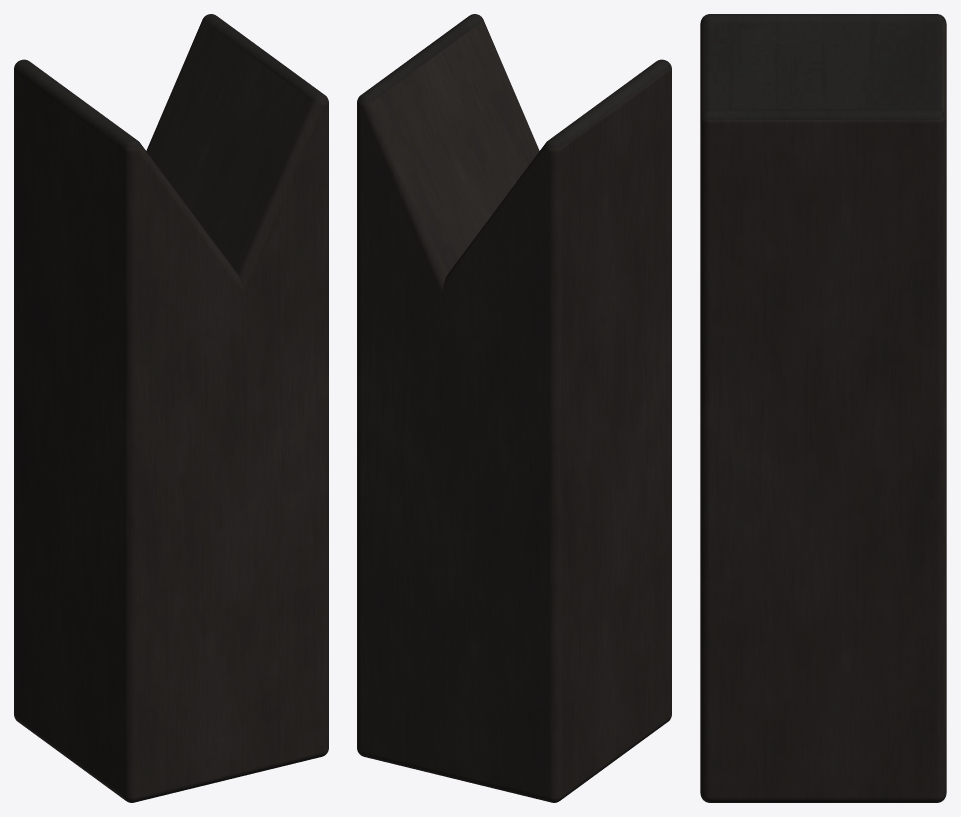
Rendered from queen-black.glb.
3 views of the same model, side by side, from view 1: azimuth 30°, elevation 25°; view 2: azimuth 150°, elevation 25°; view 3: azimuth 270°, elevation 25° (orthographic). The views are drawn at different scales.
Visible parts, largest first — view 1: Rez_Dama_cerny; view 2: Rez_Dama_cerny; view 3: Rez_Dama_cerny.
Part boxes in pixels (left/top/right/bottom): Rez_Dama_cerny: left=14, top=14, right=328, bottom=802; Rez_Dama_cerny: left=357, top=14, right=671, bottom=802; Rez_Dama_cerny: left=700, top=14, right=946, bottom=802.
Size of the model in its own units: 0.4838 by 1.5 by 0.4838.
Materials: 2 (2 with a texture image).
